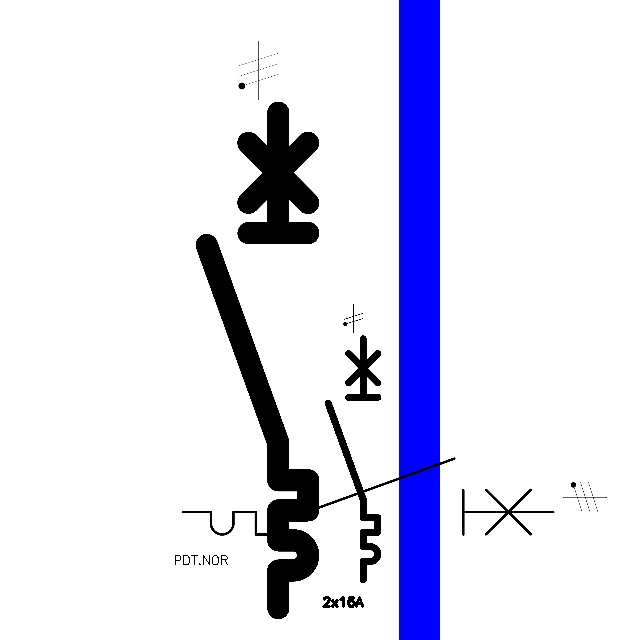interruptor_termomagnetico: (194, 99, 321, 620), (173, 449, 562, 544), (322, 332, 384, 585)
